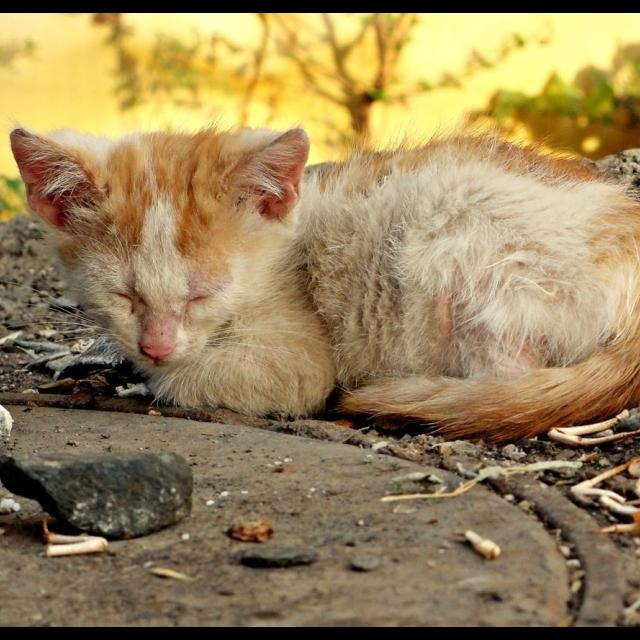animals: (11, 124, 640, 441)
